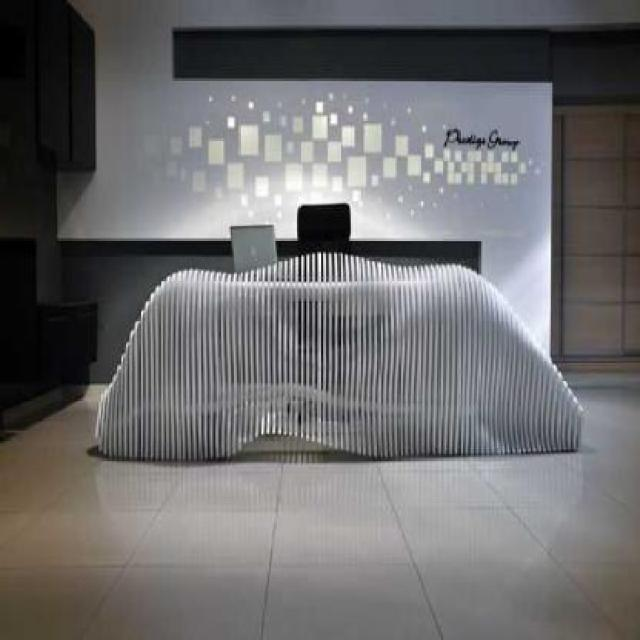frontdesk: (77, 238, 601, 476)
